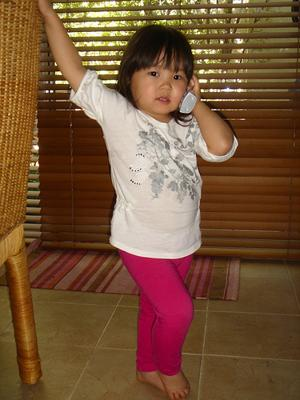person: (37, 6, 239, 400)
